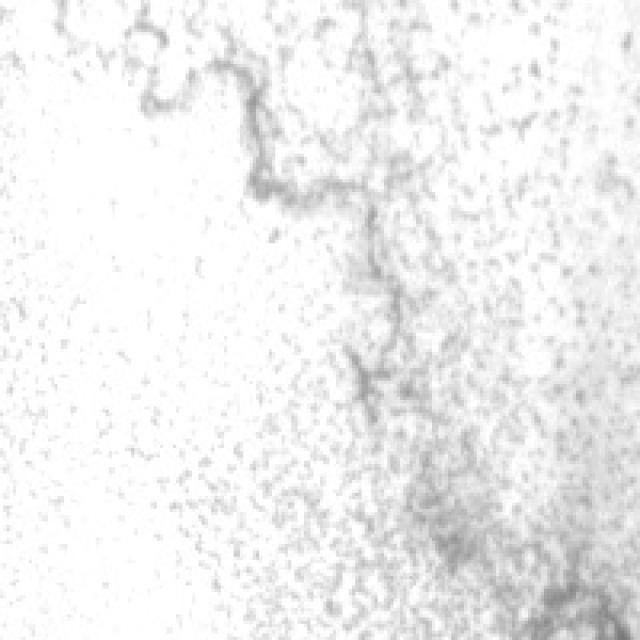pitted_surface: (172, 272, 634, 637), (70, 0, 573, 301)
